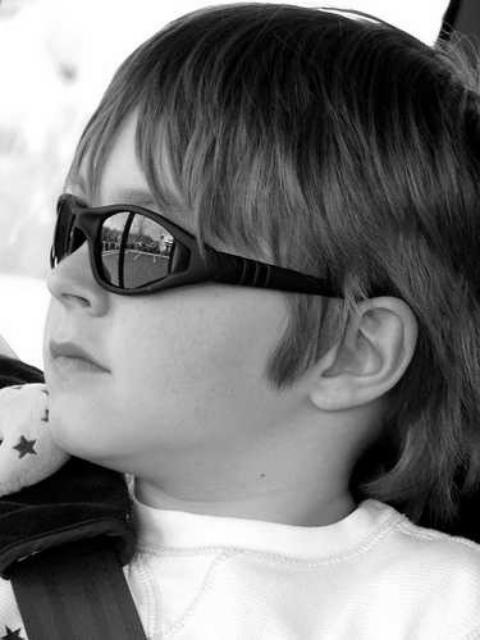Seatbelt: (0, 336, 158, 640)
